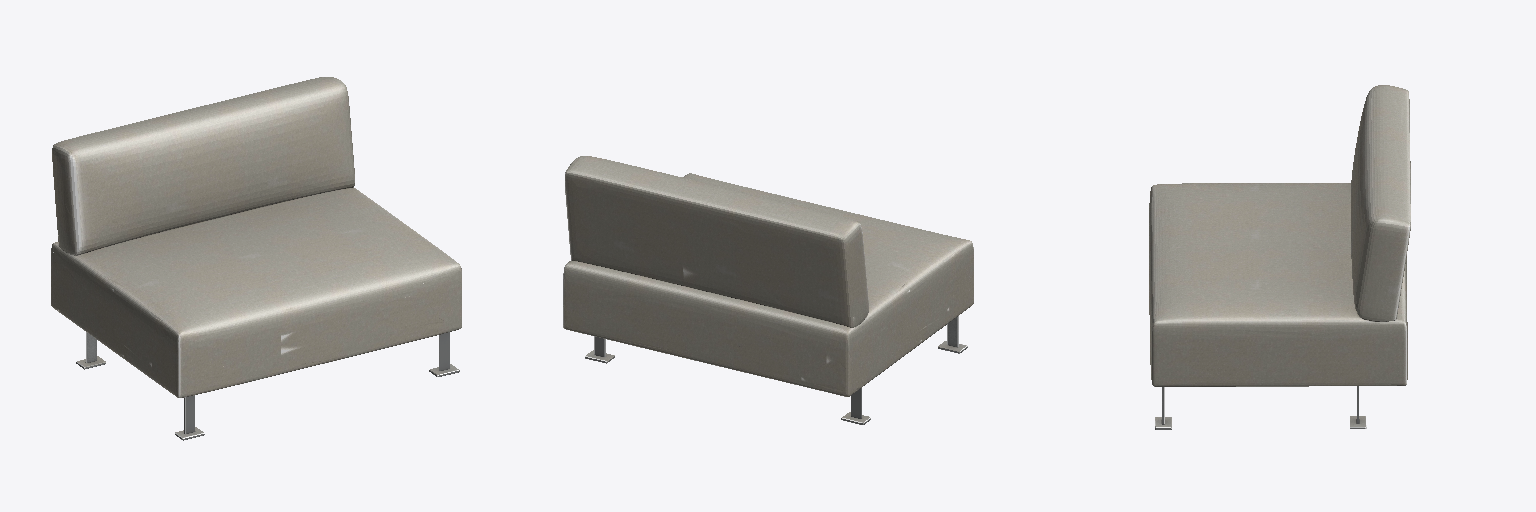
3 renders of one model, left to right at view 1: azimuth 30°, elevation 25°; view 2: azimuth 150°, elevation 25°; view 3: azimuth 270°, elevation 25°, orthographic.
Parts seen in each view (by area): view 1: solid_001, solid_002; view 2: solid_001, solid_002; view 3: solid_001, solid_002.
Boxes of the visible parts, box(x1,y1,x2,y2) form: solid_001: box(51, 77, 461, 397); solid_002: box(76, 332, 459, 440); solid_001: box(563, 156, 973, 396); solid_002: box(585, 316, 967, 424); solid_001: box(1149, 85, 1410, 386); solid_002: box(1155, 386, 1366, 429).
Size of the model in its own units: 1.67 by 1.17 by 1.32.
1 materials, 1 textured.